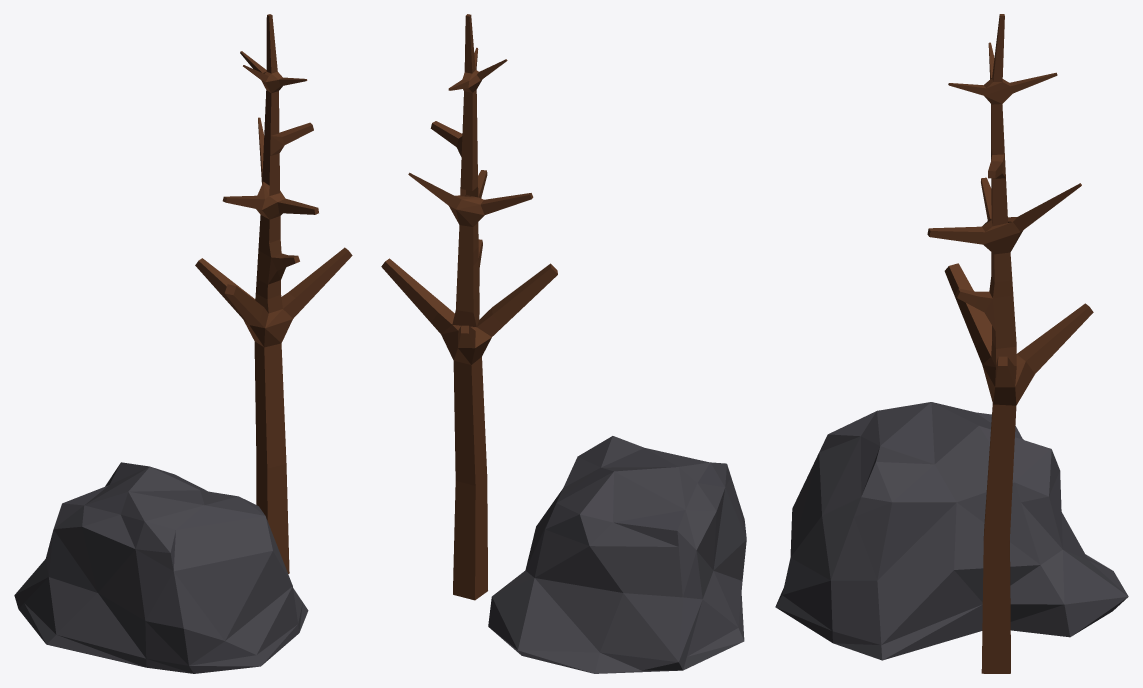
Rendered from Rock1.fbx.
The picture shows the model from 3 angles, left to right: view 1: azimuth 30°, elevation 25°; view 2: azimuth 150°, elevation 25°; view 3: azimuth 270°, elevation 25°; orthographic projection. The views are drawn at different scales.
Visible parts, largest first — view 1: Cube.034; view 2: Cube.034; view 3: Cube.034.
Boxes of the visible parts, box(x1,y1,x2,y2) form: Cube.034: box(14, 14, 352, 673); Cube.034: box(381, 14, 746, 673); Cube.034: box(775, 14, 1128, 673).
Size of the model in its own units: 231 by 376 by 185.
